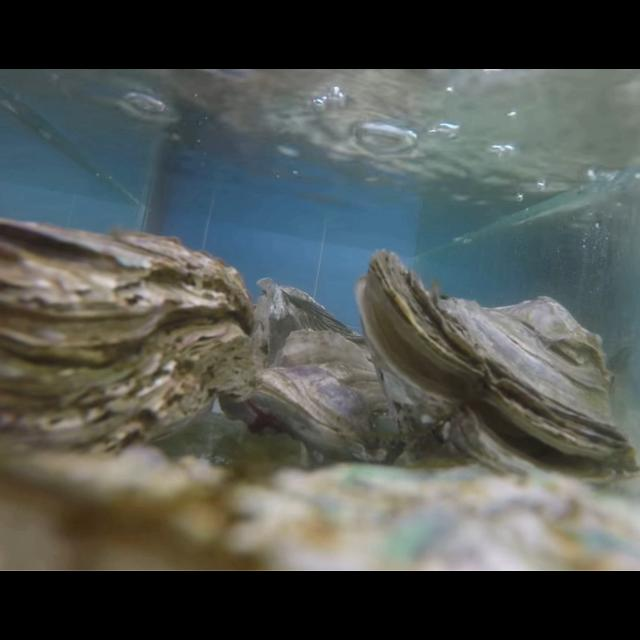Oyster-Closed: (0, 447, 640, 571), (0, 217, 258, 475), (250, 329, 414, 465), (254, 278, 370, 369)
Oyster-Open: (356, 248, 640, 494)
